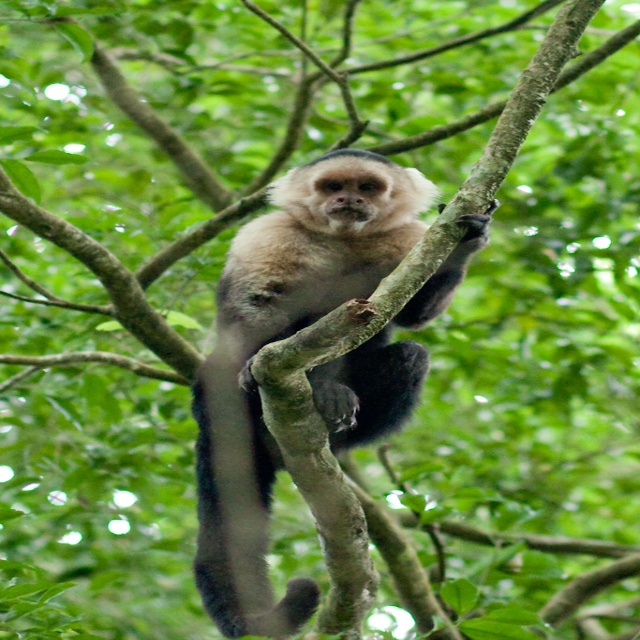Monkey: (186, 149, 504, 640)
